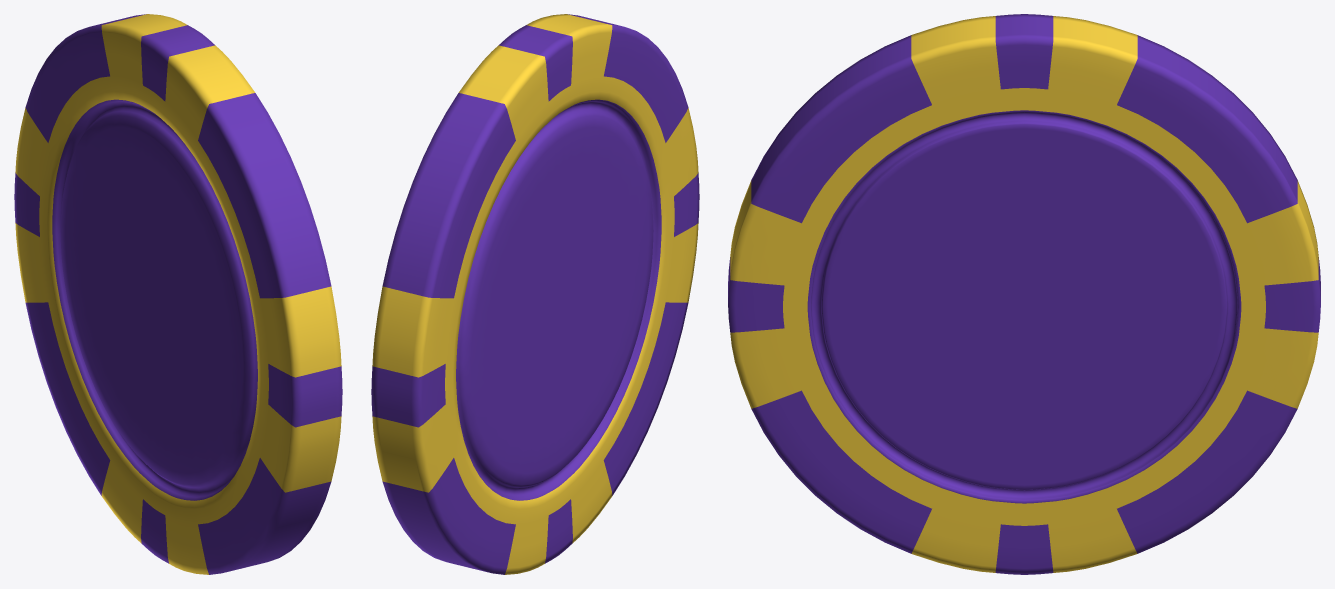
Rendered from chip.blend.gltf.
3 renders of one model, left to right at view 1: azimuth 30°, elevation 25°; view 2: azimuth 150°, elevation 25°; view 3: azimuth 270°, elevation 25°, orthographic. The views are drawn at different scales.
Parts seen in each view (by area): view 1: Chip; view 2: Chip; view 3: Chip.
Boxes of the visible parts, x1,y1,x2,y2 form: Chip: (14, 14, 342, 574); Chip: (371, 14, 699, 574); Chip: (728, 14, 1320, 574).
Bounding box in the file's own units: 0.1988 × 2 × 2.
